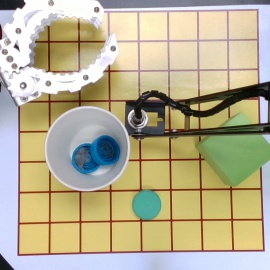cup_blue: (43, 105, 130, 193)
green: (131, 189, 162, 220)
